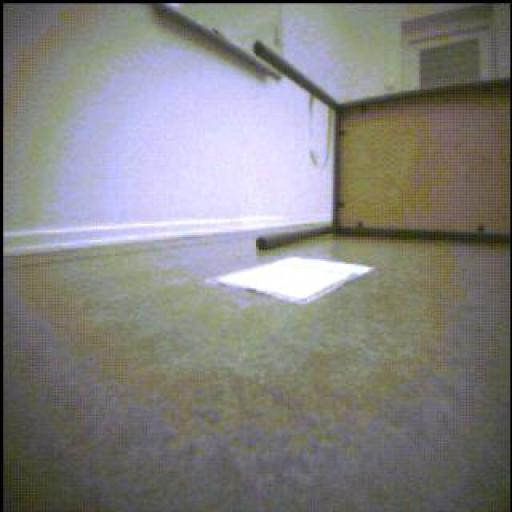Pad: (209, 259, 374, 305)
